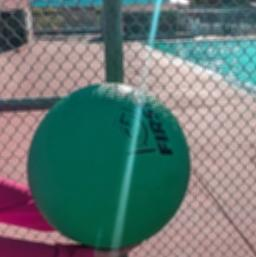algae: (23, 78, 194, 248)
